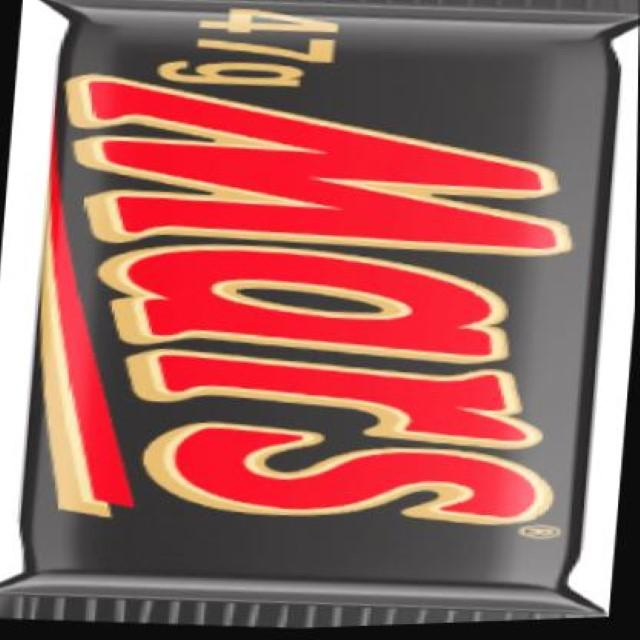mars_chocolate: (59, 38, 611, 640)
